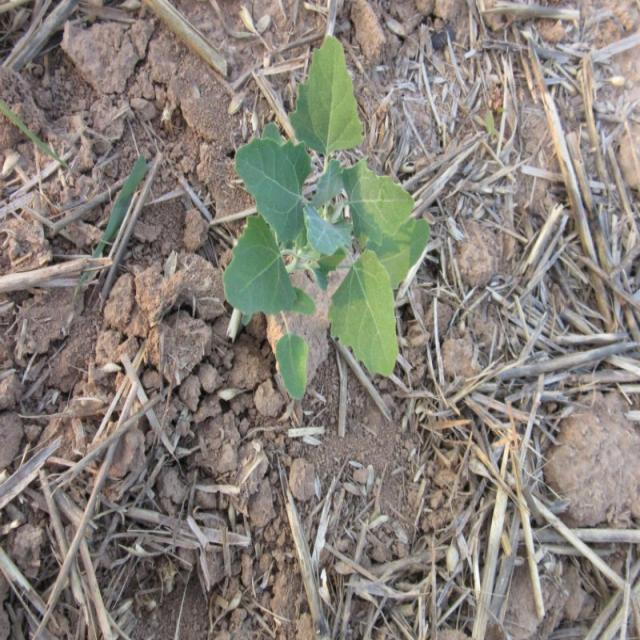ca: (228, 39, 424, 400)
